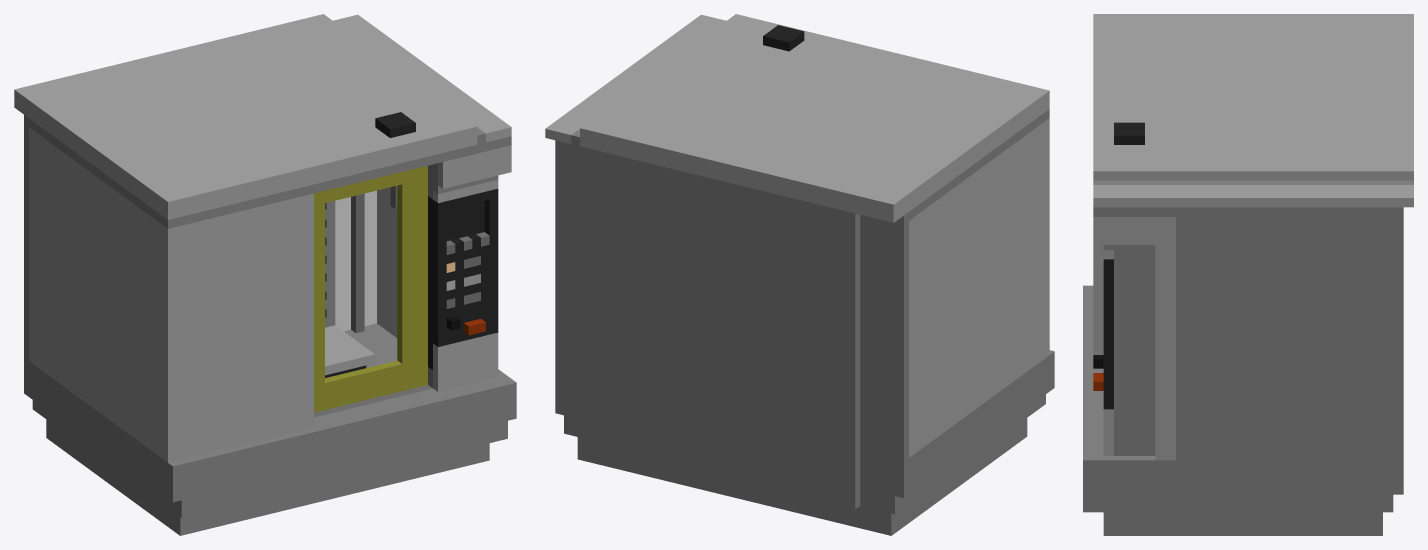
The model's file is Robot Maufacturing Chip 3.obj.
3 views of the same model, side by side, from view 1: azimuth 30°, elevation 25°; view 2: azimuth 150°, elevation 25°; view 3: azimuth 270°, elevation 25° (orthographic). The views are drawn at different scales.
Size of the model in its own units: 40 by 39 by 32.
1 material, 1 textured.
